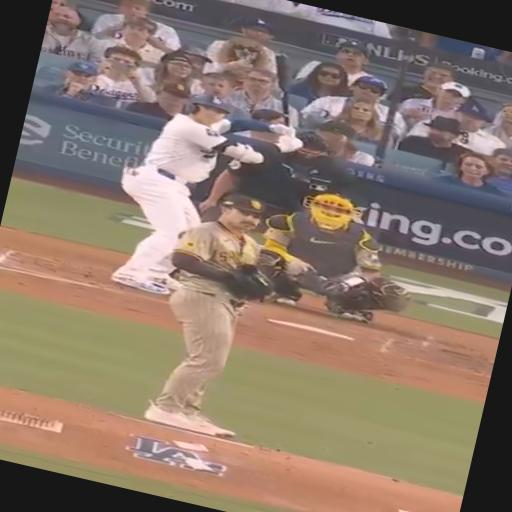bat: (276, 54, 291, 125)
